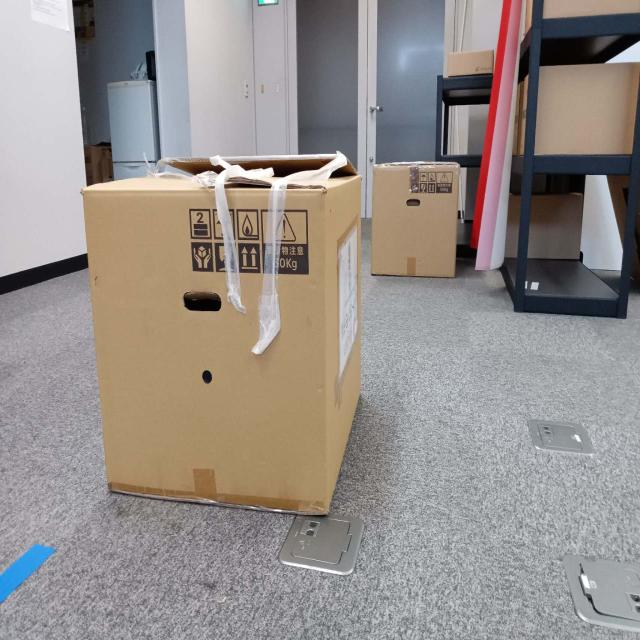box: (81, 157, 353, 521), (374, 156, 458, 280)
